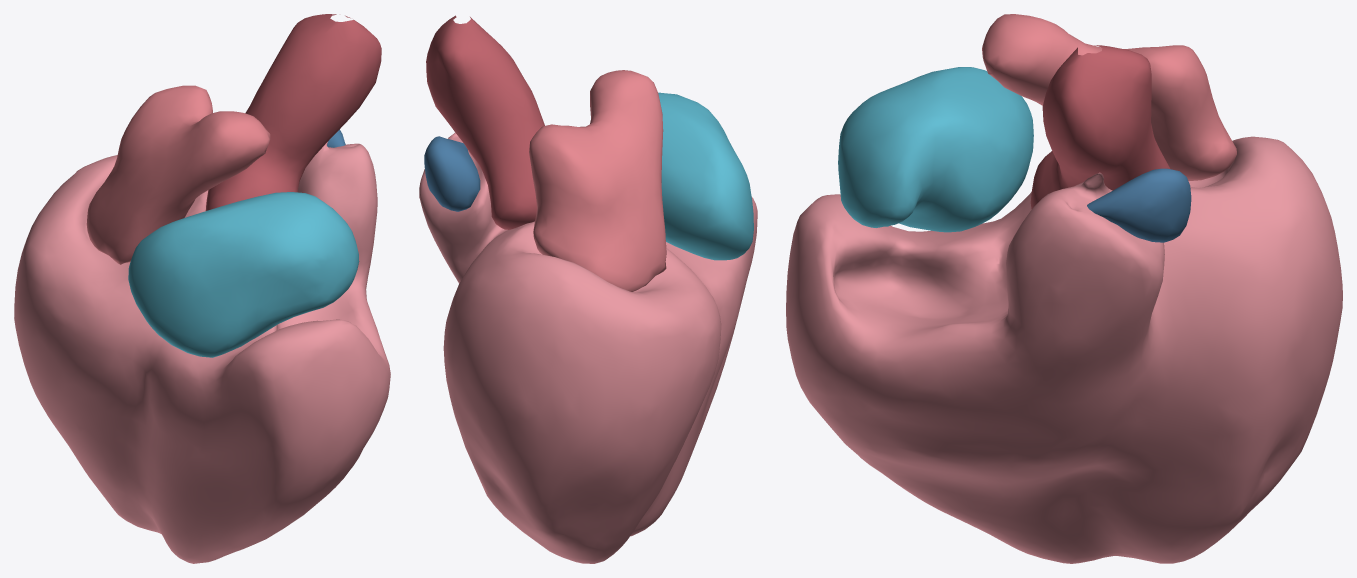
File: frame_47.glb
3 renders of one model, left to right at view 1: azimuth 30°, elevation 25°; view 2: azimuth 150°, elevation 25°; view 3: azimuth 270°, elevation 25°, orthographic. The views are drawn at different scales.
Visible parts, largest first — view 1: Renderer Node; view 2: Renderer Node; view 3: Renderer Node.
Boxes of the visible parts, x1=… form: Renderer Node: x1=14, y1=14, x2=390, y2=563; Renderer Node: x1=419, y1=15, x2=757, y2=563; Renderer Node: x1=786, y1=14, x2=1342, y2=563.
Bounding box in the file's own units: 107 × 164 × 137.
